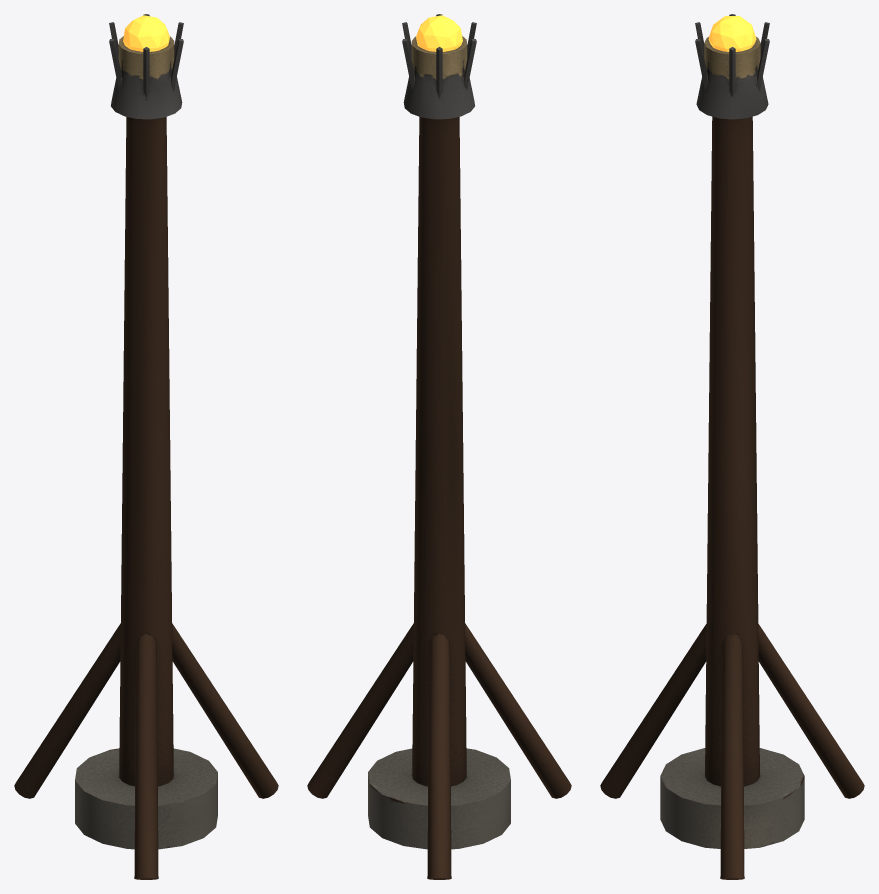
Rendered from cenario_tocha_poste.glb.
3 renders of one model, left to right at view 1: azimuth 30°, elevation 25°; view 2: azimuth 150°, elevation 25°; view 3: azimuth 270°, elevation 25°, orthographic.
Parts seen in each view (by area): view 1: cenario_tocha_poste; view 2: cenario_tocha_poste; view 3: cenario_tocha_poste.
Part boxes in pixels (x1,y1,x2,y2): cenario_tocha_poste: [14, 14, 278, 879]; cenario_tocha_poste: [307, 14, 571, 879]; cenario_tocha_poste: [600, 14, 864, 879].
Size of the model in its own units: 0.5799 by 2.23 by 0.6601.
Materials: 2 (1 with a texture image).
